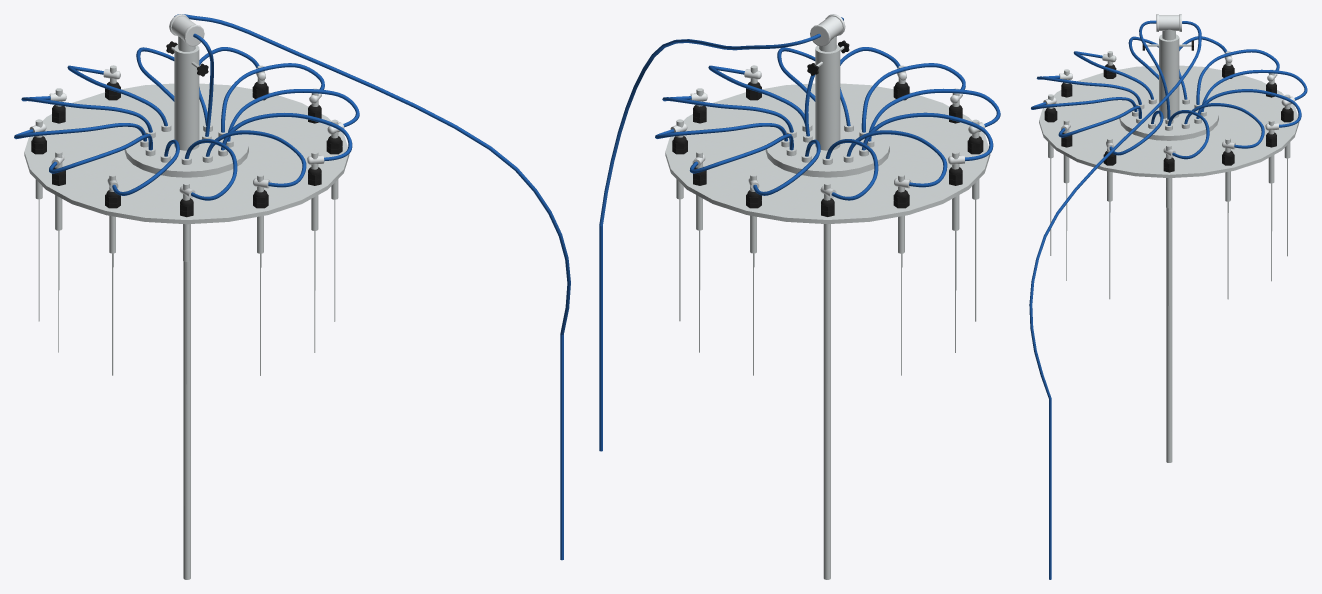
Rendered from SM_圆形水浴氮吹仪上部.fbx.
3 renders of one model, left to right at view 1: azimuth 30°, elevation 25°; view 2: azimuth 150°, elevation 25°; view 3: azimuth 270°, elevation 25°, orthographic. The views are drawn at different scales.
Visible parts, largest first — view 1: SM_圆形水浴氮吹仪上部; view 2: SM_圆形水浴氮吹仪上部; view 3: SM_圆形水浴氮吹仪上部.
Boxes of the visible parts, x1,y1,x2,y2 form: SM_圆形水浴氮吹仪上部: (14,14,570,579); SM_圆形水浴氮吹仪上部: (599,14,1000,579); SM_圆形水浴氮吹仪上部: (1029,14,1307,579).
Bounding box in the file's own units: 140 × 165 × 92.93.
